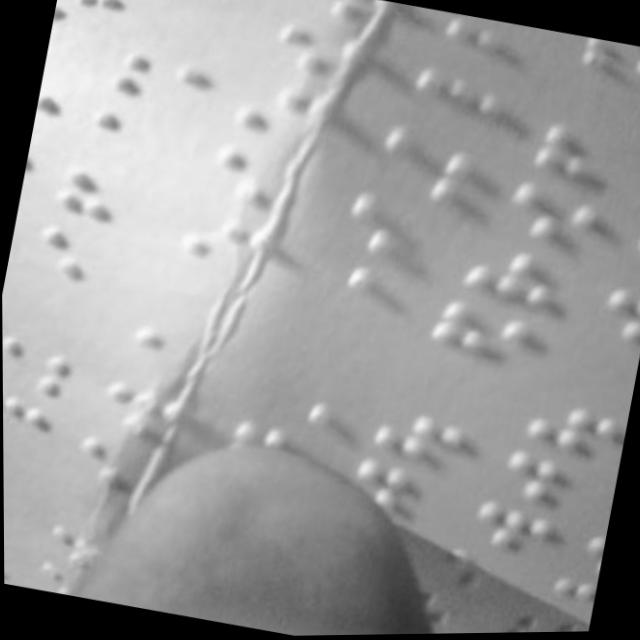braiile: (364, 126, 478, 215), (449, 240, 577, 319), (428, 297, 551, 376), (336, 191, 450, 274), (525, 113, 640, 194), (44, 162, 164, 239), (497, 180, 612, 260), (513, 393, 628, 473), (400, 65, 509, 146), (25, 219, 140, 295), (489, 448, 603, 522), (369, 403, 476, 481), (429, 12, 540, 85), (78, 104, 190, 176), (107, 43, 217, 114), (304, 259, 408, 333), (460, 502, 560, 569), (2, 329, 72, 406), (573, 280, 640, 348), (2, 387, 56, 451)
